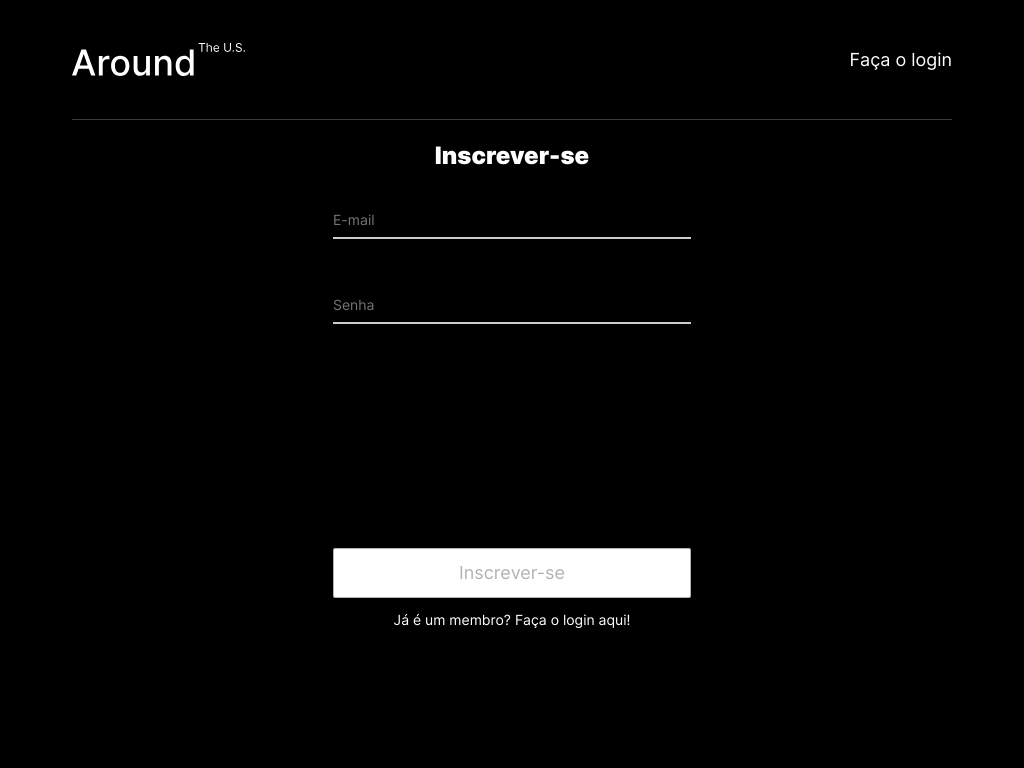
Cadastro › valida campos e envia credenciais; sucesso mostra tooltip e login
Expected: the button "Inscrever-se" is disabled, x1=333 y1=548 x2=691 y2=598
Step 1. Type "invalido" into the field with placeholder "E-mail" → (512, 216), box x1=333 y1=192 x2=691 y2=239
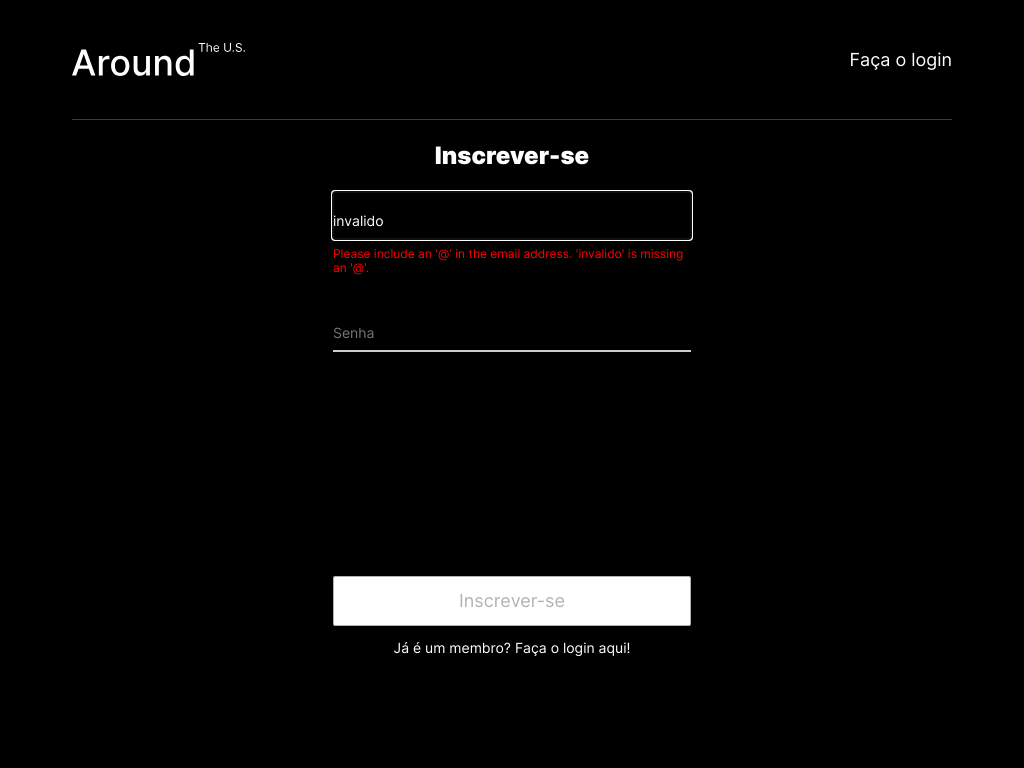
Step 2. Type "Password123" into the password field with placeholder "Senha" → (512, 328), box x1=333 y1=305 x2=691 y2=352
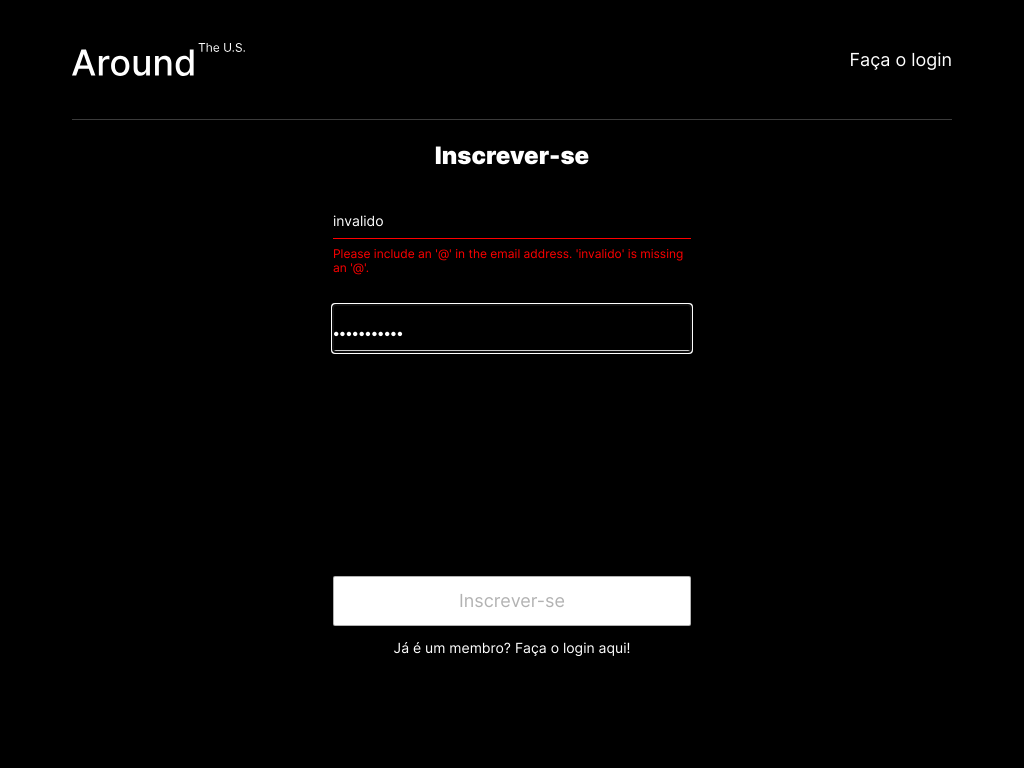
Expected: the button "Inscrever-se" is disabled, x1=333 y1=576 x2=691 y2=626
Step 3. Replace the text in the field with placeholder "E-mail" with "ana@example.com" → (512, 216), box x1=333 y1=192 x2=691 y2=239
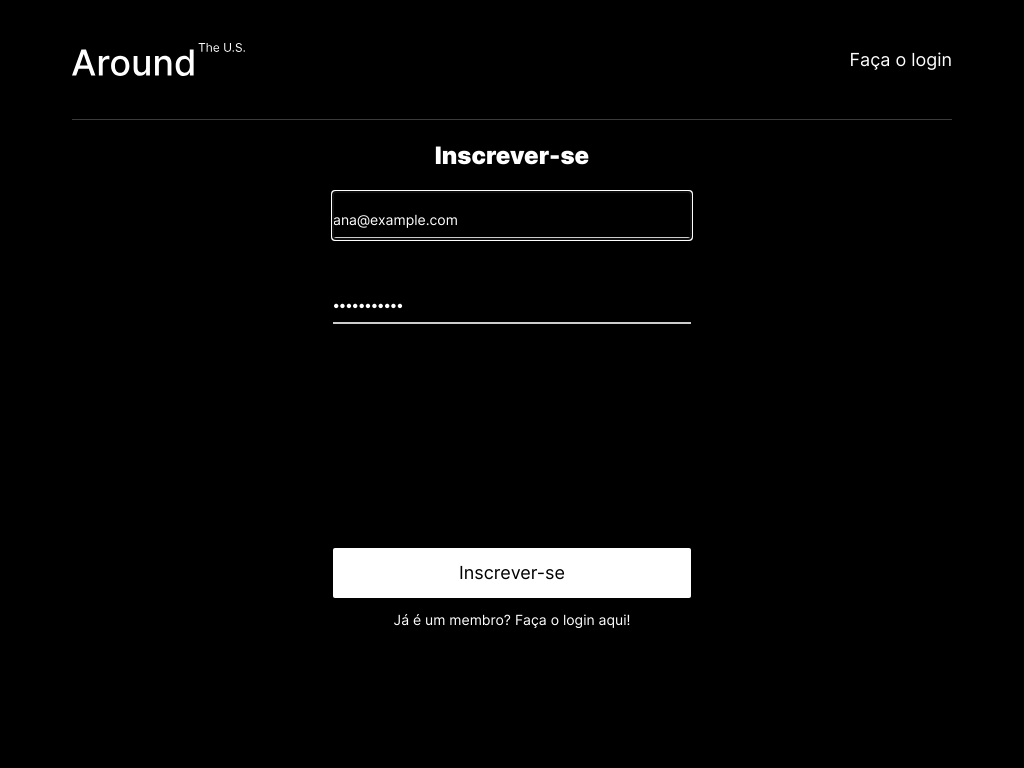
Step 4. Click the button "Inscrever-se" → (512, 573), box x1=333 y1=548 x2=691 y2=598
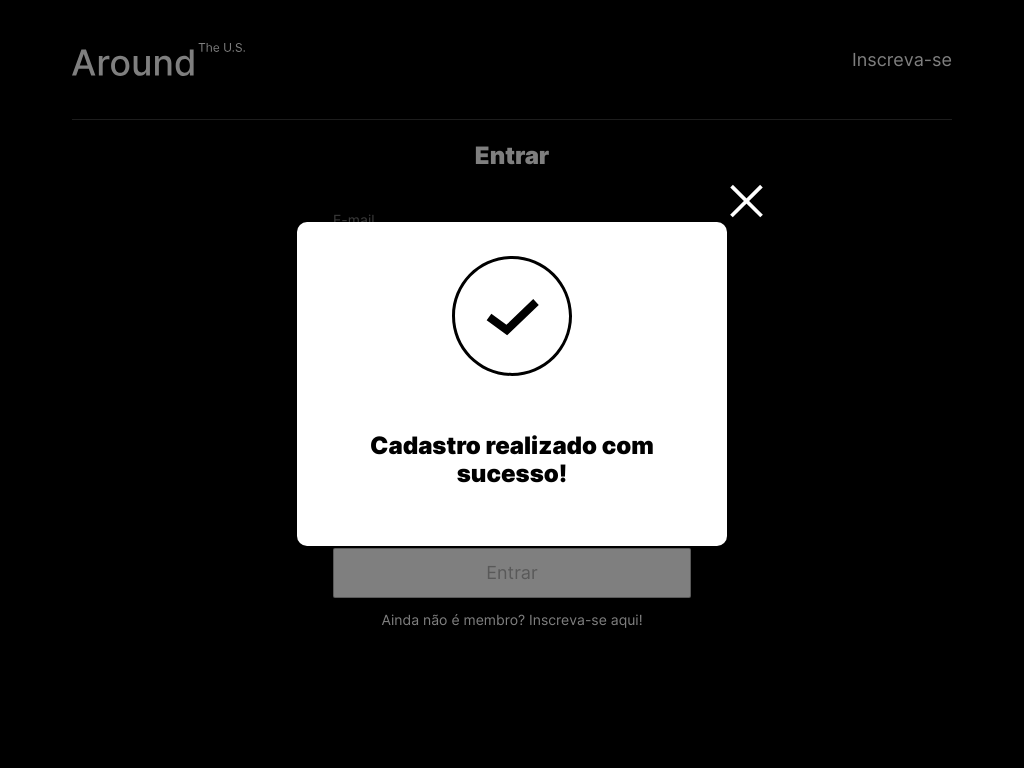
Result: the heading "Cadastro realizado com sucesso!" is shown at x1=370 y1=431 x2=654 y2=488
